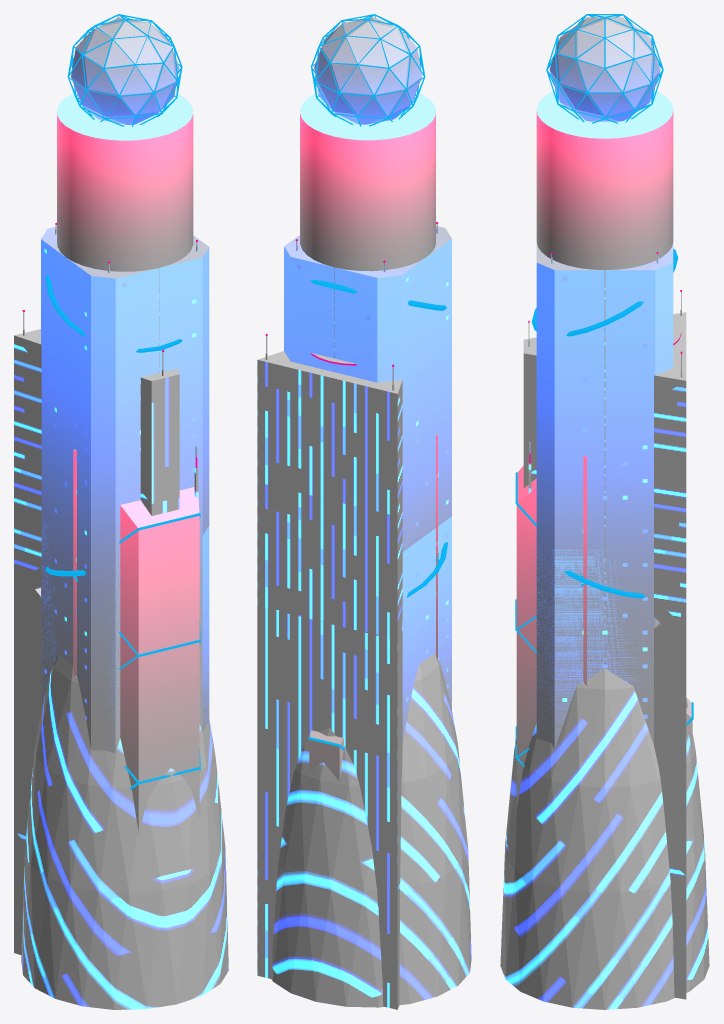
File: SM_Buildings.fbx
3 renders of one model, left to right at view 1: azimuth 30°, elevation 25°; view 2: azimuth 150°, elevation 25°; view 3: azimuth 270°, elevation 25°, orthographic.
Parts seen in each view (by area): view 1: Building.009, Building.003, Building.011, Building, Building.004, Building.010; view 2: Building.004, Building.003, Building.011, Building.009, Building.010, Building; view 3: Building.009, Building.003, Building.011, Building.004, Building.010, Building.
Boxes of the visible parts, <box> form: Building.009: <box>41,222,209,753</box>; Building.003: <box>21,655,228,1009</box>; Building.011: <box>45,14,193,576</box>; Building: <box>73,446,200,835</box>; Building.004: <box>14,310,179,955</box>; Building.010: <box>41,522,209,752</box>; Building.004: <box>257,334,402,1009</box>; Building.003: <box>271,653,471,1007</box>; Building.011: <box>300,14,447,597</box>; Building.009: <box>284,222,451,706</box>; Building.010: <box>401,516,451,742</box>; Building: <box>308,434,438,781</box>; Building.009: <box>536,242,673,748</box>; Building.003: <box>500,668,709,1009</box>; Building.011: <box>532,14,677,663</box>; Building.004: <box>523,290,686,999</box>; Building.010: <box>536,546,653,747</box>; Building: <box>515,442,693,808</box>.
Size of the model in its own units: 1070 by 5359 by 1070.
